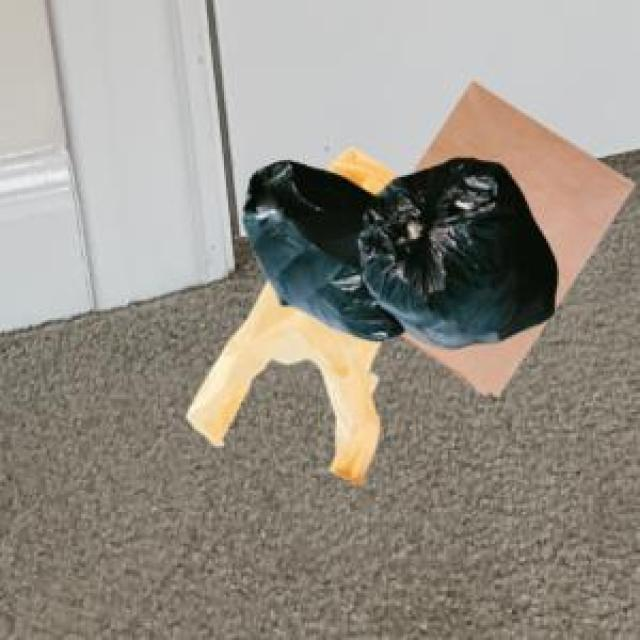miscellaneous trash: (239, 154, 550, 344)
paper: (397, 77, 629, 390)
